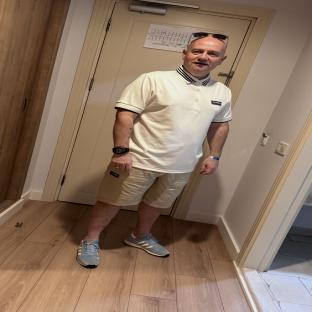Human: (77, 33, 232, 267)
